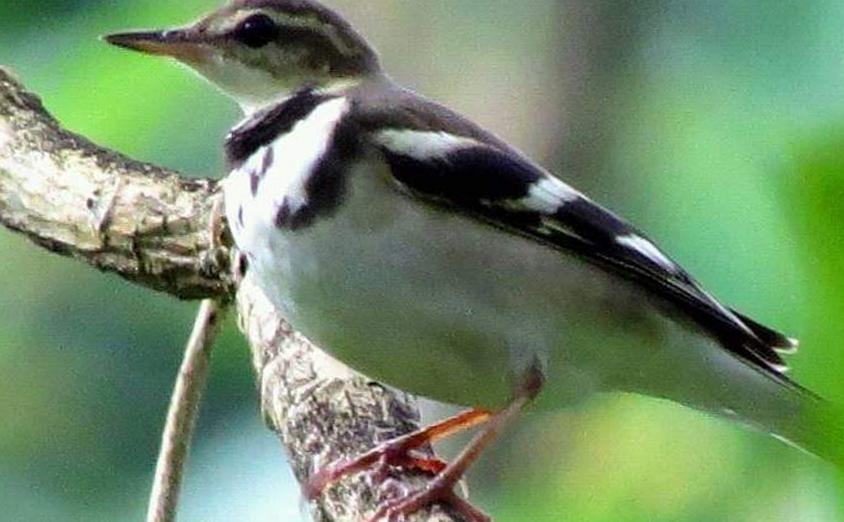wagtail: (121, 1, 780, 471)
